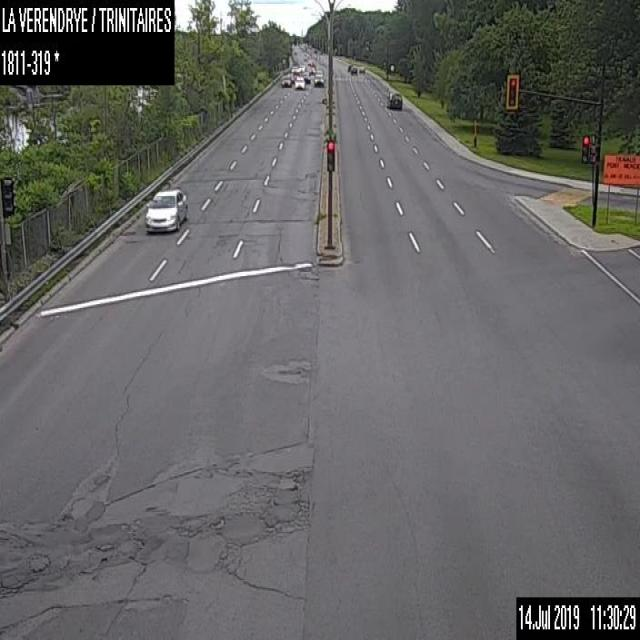vehicle: (142, 187, 186, 230), (386, 89, 402, 108), (294, 75, 305, 87), (313, 75, 323, 87), (281, 74, 291, 84), (301, 70, 310, 81), (286, 72, 294, 83), (350, 64, 357, 74), (291, 65, 299, 73), (314, 69, 322, 76), (358, 64, 364, 72), (308, 66, 314, 73), (347, 63, 352, 71), (299, 64, 305, 70), (307, 59, 312, 64)
